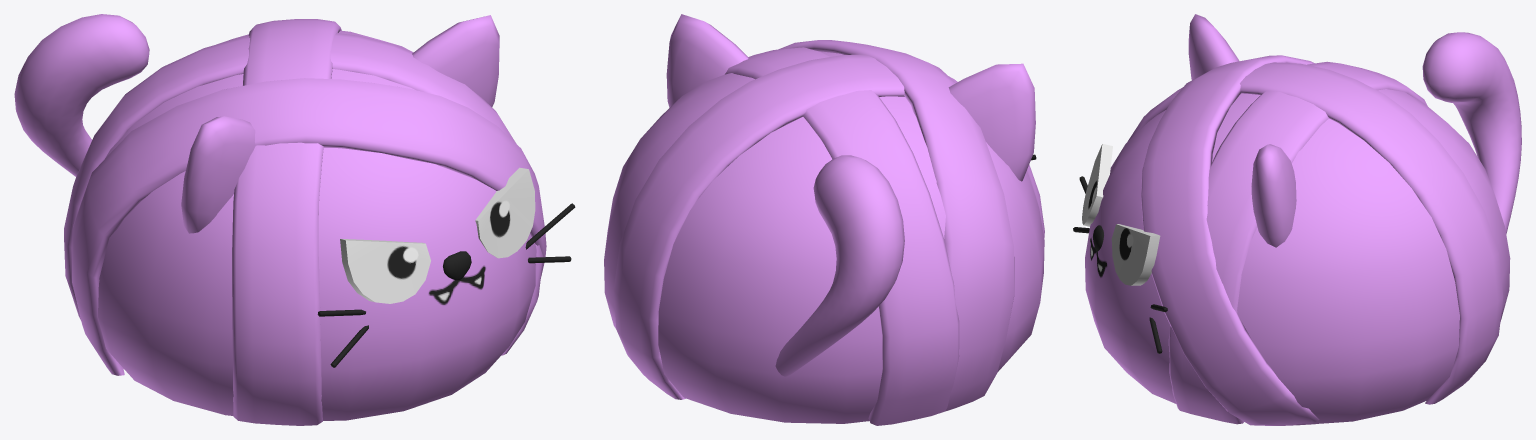
Rendered from YarnEnemy.gltf.
3 renders of one model, left to right at view 1: azimuth 30°, elevation 25°; view 2: azimuth 150°, elevation 25°; view 3: azimuth 270°, elevation 25°, orthographic. The views are drawn at different scales.
Visible parts, largest first — view 1: YarnBigEnemy; view 2: YarnBigEnemy; view 3: YarnBigEnemy.
Part boxes in pixels (box(x1,y1,x2,y2)): YarnBigEnemy: box(14, 14, 575, 425); YarnBigEnemy: box(604, 14, 1044, 425); YarnBigEnemy: box(1073, 14, 1521, 425).
Bounding box in the file's own units: 1.23 × 0.8445 × 1.26.
Materials: 1 (1 with a texture image).
